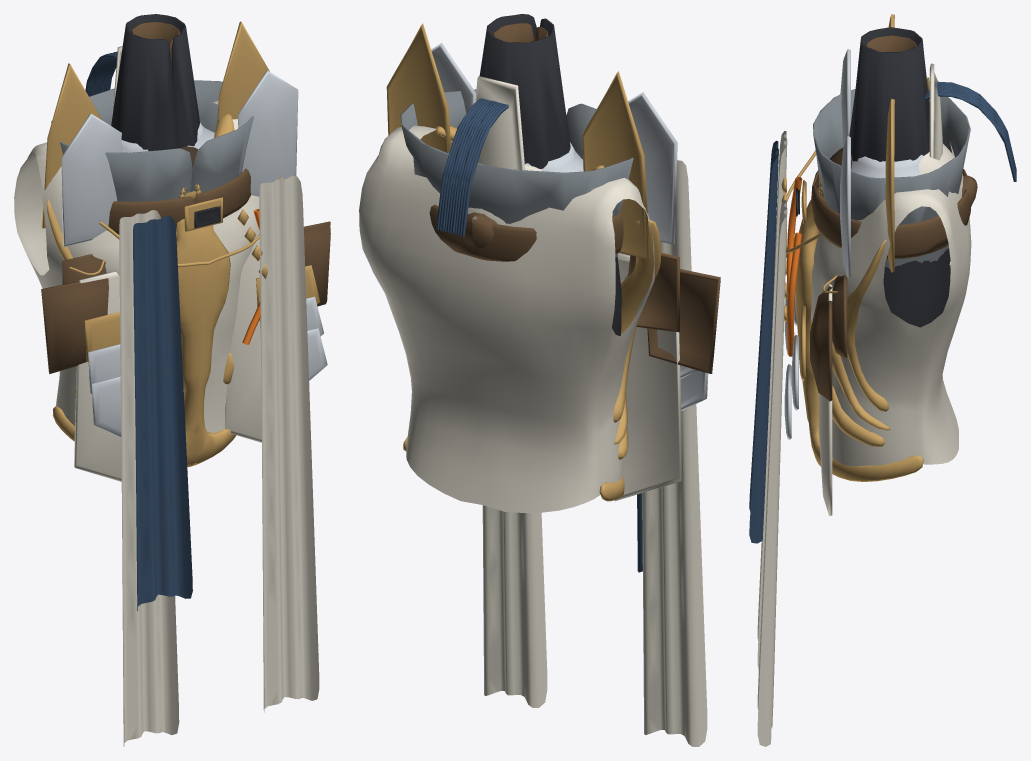
Rendered from warden.glb.
3 views of the same model, side by side, from view 1: azimuth 30°, elevation 25°; view 2: azimuth 150°, elevation 25°; view 3: azimuth 270°, elevation 25° (orthographic). The views are drawn at different scales.
Visible parts, largest first — view 1: Dawn stole.001, Marshal sash, Dawn stole, Forged BreastPlate, Forged BreastPlate.001, Fitted breeches, Waisted gambeson, Bastion raised guard, Bastion raised guard.001, Fluted hip tasset.001, Trail satchel, Fluted hip tasset (+12 smaller); view 2: Forged BreastPlate, Dawn stole, Dawn stole.001, Waisted gambeson, Fluted hip tasset, Fitted breeches, Spellweave collar, Spellweave collar.001, Bastion raised guard, Trail satchel, Forged BreastPlate.001, Fitted greave (+8 smaller); view 3: Forged BreastPlate, Fitted breeches, Forged BreastPlate.001, Waisted gambeson, Dawn stole.001, Marshal sash, Padded hip foundation, Fitted belt, Trail satchel.001, Dawn stole, Fluted hip tasset.001, Spellweave collar.001 (+13 smaller).
Boxes of the visible parts, x1=… form: Dawn stole.001: x1=259, y1=175, x2=319, y2=712; Marshal sash: x1=133, y1=216, x2=192, y2=610; Dawn stole: x1=119, y1=210, x2=179, y2=746; Forged BreastPlate: x1=14, y1=100, x2=259, y2=432; Forged BreastPlate.001: x1=46, y1=114, x2=236, y2=467; Fitted breeches: x1=111, y1=14, x2=199, y2=151; Waisted gambeson: x1=51, y1=80, x2=254, y2=201; Bastion raised guard: x1=61, y1=113, x2=121, y2=246; Bastion raised guard.001: x1=238, y1=70, x2=298, y2=196; Fluted hip tasset.001: x1=225, y1=239, x2=261, y2=442; Trail satchel: x1=41, y1=278, x2=108, y2=374; Fluted hip tasset: x1=74, y1=272, x2=121, y2=481; Forged BreastPlate: x1=359, y1=125, x2=654, y2=512; Dawn stole: x1=642, y1=160, x2=707, y2=746; Dawn stole.001: x1=482, y1=505, x2=547, y2=707; Waisted gambeson: x1=400, y1=89, x2=633, y2=256; Fluted hip tasset: x1=614, y1=253, x2=683, y2=501; Fitted breeches: x1=479, y1=14, x2=570, y2=168; Spellweave collar: x1=582, y1=71, x2=650, y2=259; Spellweave collar.001: x1=386, y1=23, x2=450, y2=152; Bastion raised guard: x1=628, y1=92, x2=677, y2=244; Trail satchel: x1=647, y1=269, x2=720, y2=373; Forged BreastPlate.001: x1=403, y1=125, x2=660, y2=501; Fitted greave: x1=475, y1=76, x2=525, y2=170; Forged BreastPlate: x1=811, y1=142, x2=971, y2=466; Fitted breeches: x1=849, y1=27, x2=929, y2=161; Forged BreastPlate.001: x1=795, y1=186, x2=923, y2=481; Waisted gambeson: x1=813, y1=89, x2=970, y2=268; Dawn stole.001: x1=757, y1=200, x2=787, y2=746; Marshal sash: x1=749, y1=140, x2=778, y2=543; Padded hip foundation: x1=883, y1=248, x2=950, y2=327; Fitted belt: x1=811, y1=169, x2=970, y2=259; Trail satchel.001: x1=810, y1=286, x2=832, y2=401; Dawn stole: x1=757, y1=131, x2=787, y2=670; Fluted hip tasset.001: x1=819, y1=283, x2=832, y2=515; Spellweave collar.001: x1=885, y1=99, x2=894, y2=272.
Size of the model in its own units: 0.5728 by 1.23 by 0.4533.
